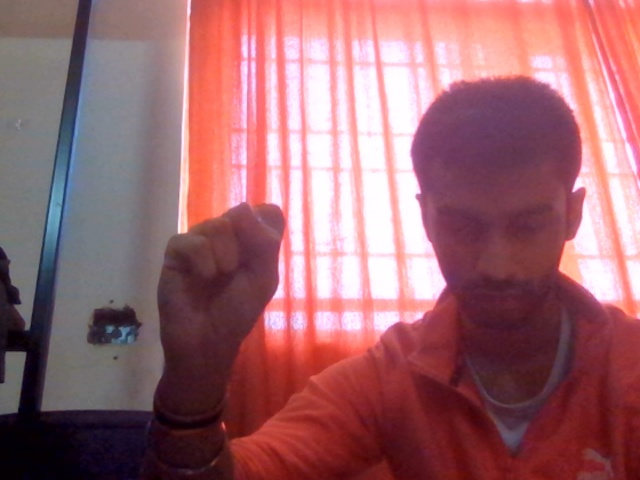S: (105, 171, 362, 403)
